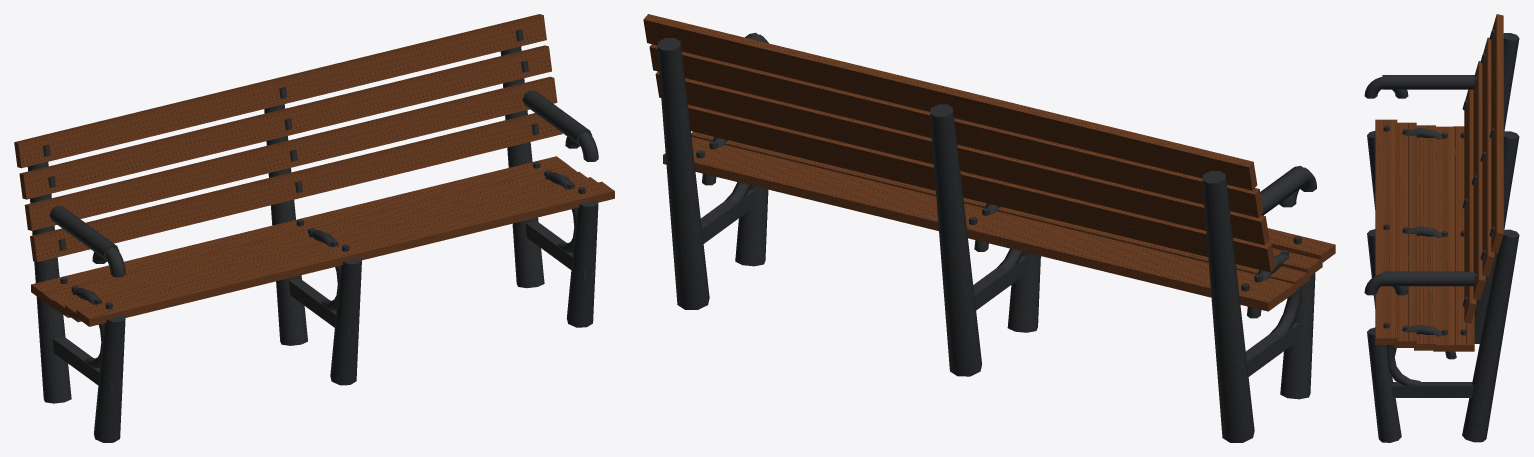
File: banca_colonial.obj
3 renders of one model, left to right at view 1: azimuth 30°, elevation 25°; view 2: azimuth 150°, elevation 25°; view 3: azimuth 270°, elevation 25°, orthographic. The views are drawn at different scales.
Parts seen in each view (by area): view 1: Liston_Respaldo_4, Liston_Respaldo_3, Liston_Respaldo_2, Liston_Respaldo_1, Liston_Asiento_1, Liston_Asiento_5, Liston_Asiento_4, Liston_Asiento_3, Liston_Asiento_2, Mesh_33, Mesh_793, Mesh_397 (+8 smaller); view 2: Liston_Respaldo_4, Liston_Respaldo_3, Liston_Respaldo_2, Liston_Respaldo_1, Liston_Asiento_5, Mesh_429, Mesh_825, Mesh_33, Liston_Asiento_4, Liston_Asiento_3, Mesh_1, Mesh_397 (+7 smaller); view 3: Liston_Asiento_1, Mesh_429, Liston_Asiento_2, Liston_Asiento_3, Liston_Asiento_4, Liston_Respaldo_4, Liston_Asiento_5, Liston_Respaldo_3, Liston_Respaldo_2, Mesh_397, Liston_Respaldo_1, Mesh_825 (+11 smaller).
Part boxes in pixels (left/top/right/bottom): Liston_Respaldo_4: left=14, top=14, right=546, bottom=168; Liston_Respaldo_3: left=19, top=45, right=551, bottom=199; Liston_Respaldo_2: left=24, top=76, right=557, bottom=230; Liston_Respaldo_1: left=30, top=113, right=562, bottom=262; Liston_Asiento_1: left=76, top=181, right=614, bottom=326; Liston_Asiento_5: left=31, top=156, right=569, bottom=299; Liston_Asiento_4: left=42, top=166, right=576, bottom=309; Liston_Asiento_3: left=53, top=172, right=587, bottom=316; Liston_Asiento_2: left=65, top=177, right=597, bottom=322; Mesh_33: left=27, top=162, right=71, bottom=403; Mesh_793: left=330, top=257, right=361, bottom=385; Mesh_397: left=566, top=199, right=598, bottom=327; Liston_Respaldo_4: left=643, top=14, right=1257, bottom=190; Liston_Respaldo_3: left=649, top=44, right=1263, bottom=217; Liston_Respaldo_2: left=655, top=71, right=1269, bottom=245; Liston_Respaldo_1: left=688, top=104, right=1275, bottom=272; Liston_Asiento_5: left=663, top=148, right=1282, bottom=311; Mesh_429: left=657, top=38, right=709, bottom=309; Mesh_825: left=929, top=104, right=981, bottom=376; Mesh_33: left=1202, top=171, right=1254, bottom=442; Liston_Asiento_4: left=691, top=137, right=1296, bottom=302; Liston_Asiento_3: left=691, top=131, right=1309, bottom=290; Mesh_1: left=1280, top=273, right=1315, bottom=399; Mesh_397: left=735, top=185, right=768, bottom=266; Liston_Asiento_1: left=1375, top=119, right=1397, bottom=344; Mesh_429: left=1462, top=229, right=1519, bottom=442; Liston_Asiento_2: left=1394, top=122, right=1416, bottom=347; Liston_Asiento_3: left=1414, top=125, right=1435, bottom=350; Liston_Asiento_4: left=1433, top=126, right=1455, bottom=351; Liston_Respaldo_4: left=1491, top=14, right=1503, bottom=253; Liston_Asiento_5: left=1453, top=126, right=1474, bottom=351; Liston_Respaldo_3: left=1482, top=37, right=1494, bottom=276; Liston_Respaldo_2: left=1473, top=61, right=1485, bottom=300; Mesh_397: left=1367, top=327, right=1401, bottom=442; Liston_Respaldo_1: left=1464, top=89, right=1476, bottom=323; Mesh_825: left=1474, top=131, right=1519, bottom=343.
Size of the model in its own units: 2 by 0.9283 by 0.5992.
2 materials, 2 textured.
